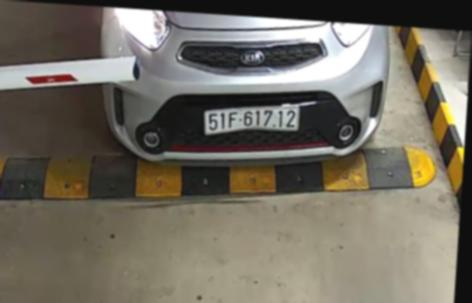License_Plate: (200, 102, 306, 141)
